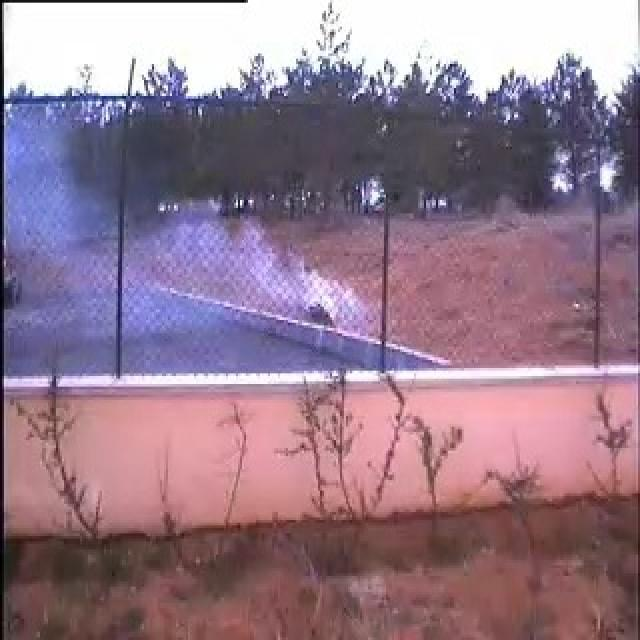smoke: (54, 124, 347, 326)
